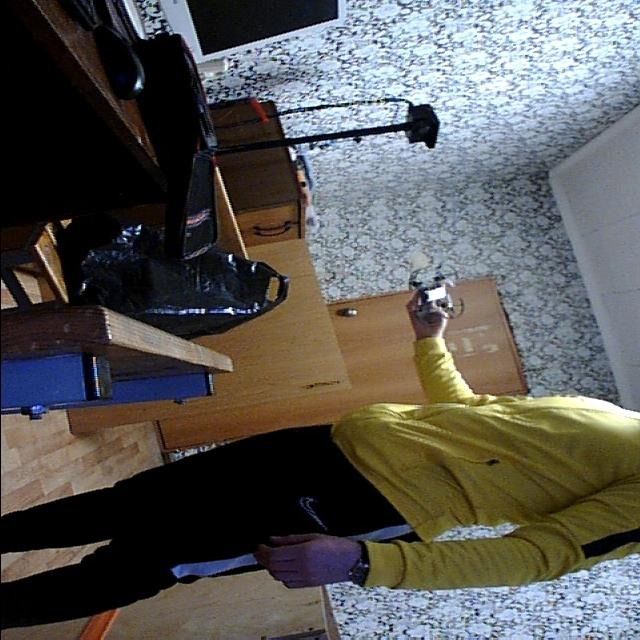drone: (400, 262, 466, 332)
